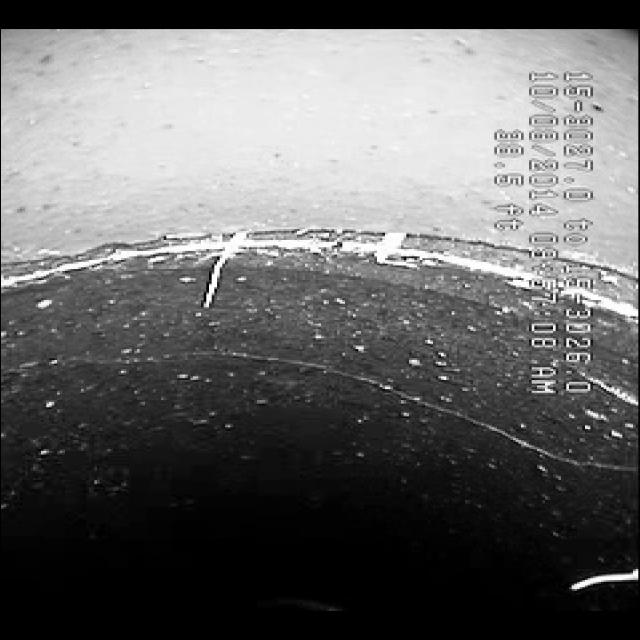Crack: (1, 331, 521, 434)
